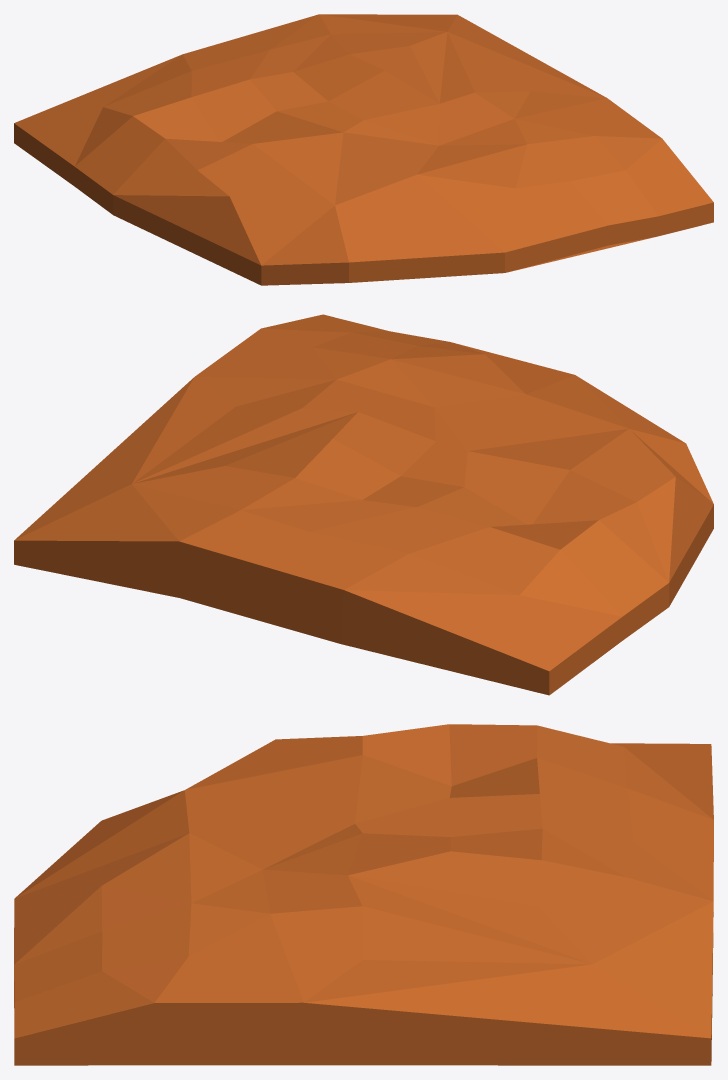
Rendered from Path Curve 3.fbx.
3 views of the same model, one above another, from view 1: azimuth 30°, elevation 25°; view 2: azimuth 150°, elevation 25°; view 3: azimuth 270°, elevation 25° (orthographic). The views are drawn at different scales.
Parts seen in each view (by area): view 1: Path Curve 3; view 2: Path Curve 3; view 3: Path Curve 3.
Part boxes in pixels (x1,y1,x2,y2): Path Curve 3: [14, 14, 713, 285]; Path Curve 3: [14, 314, 713, 695]; Path Curve 3: [14, 724, 713, 1065].
Bounding box in the file's own units: 5.54 × 1.09 × 5.56.
